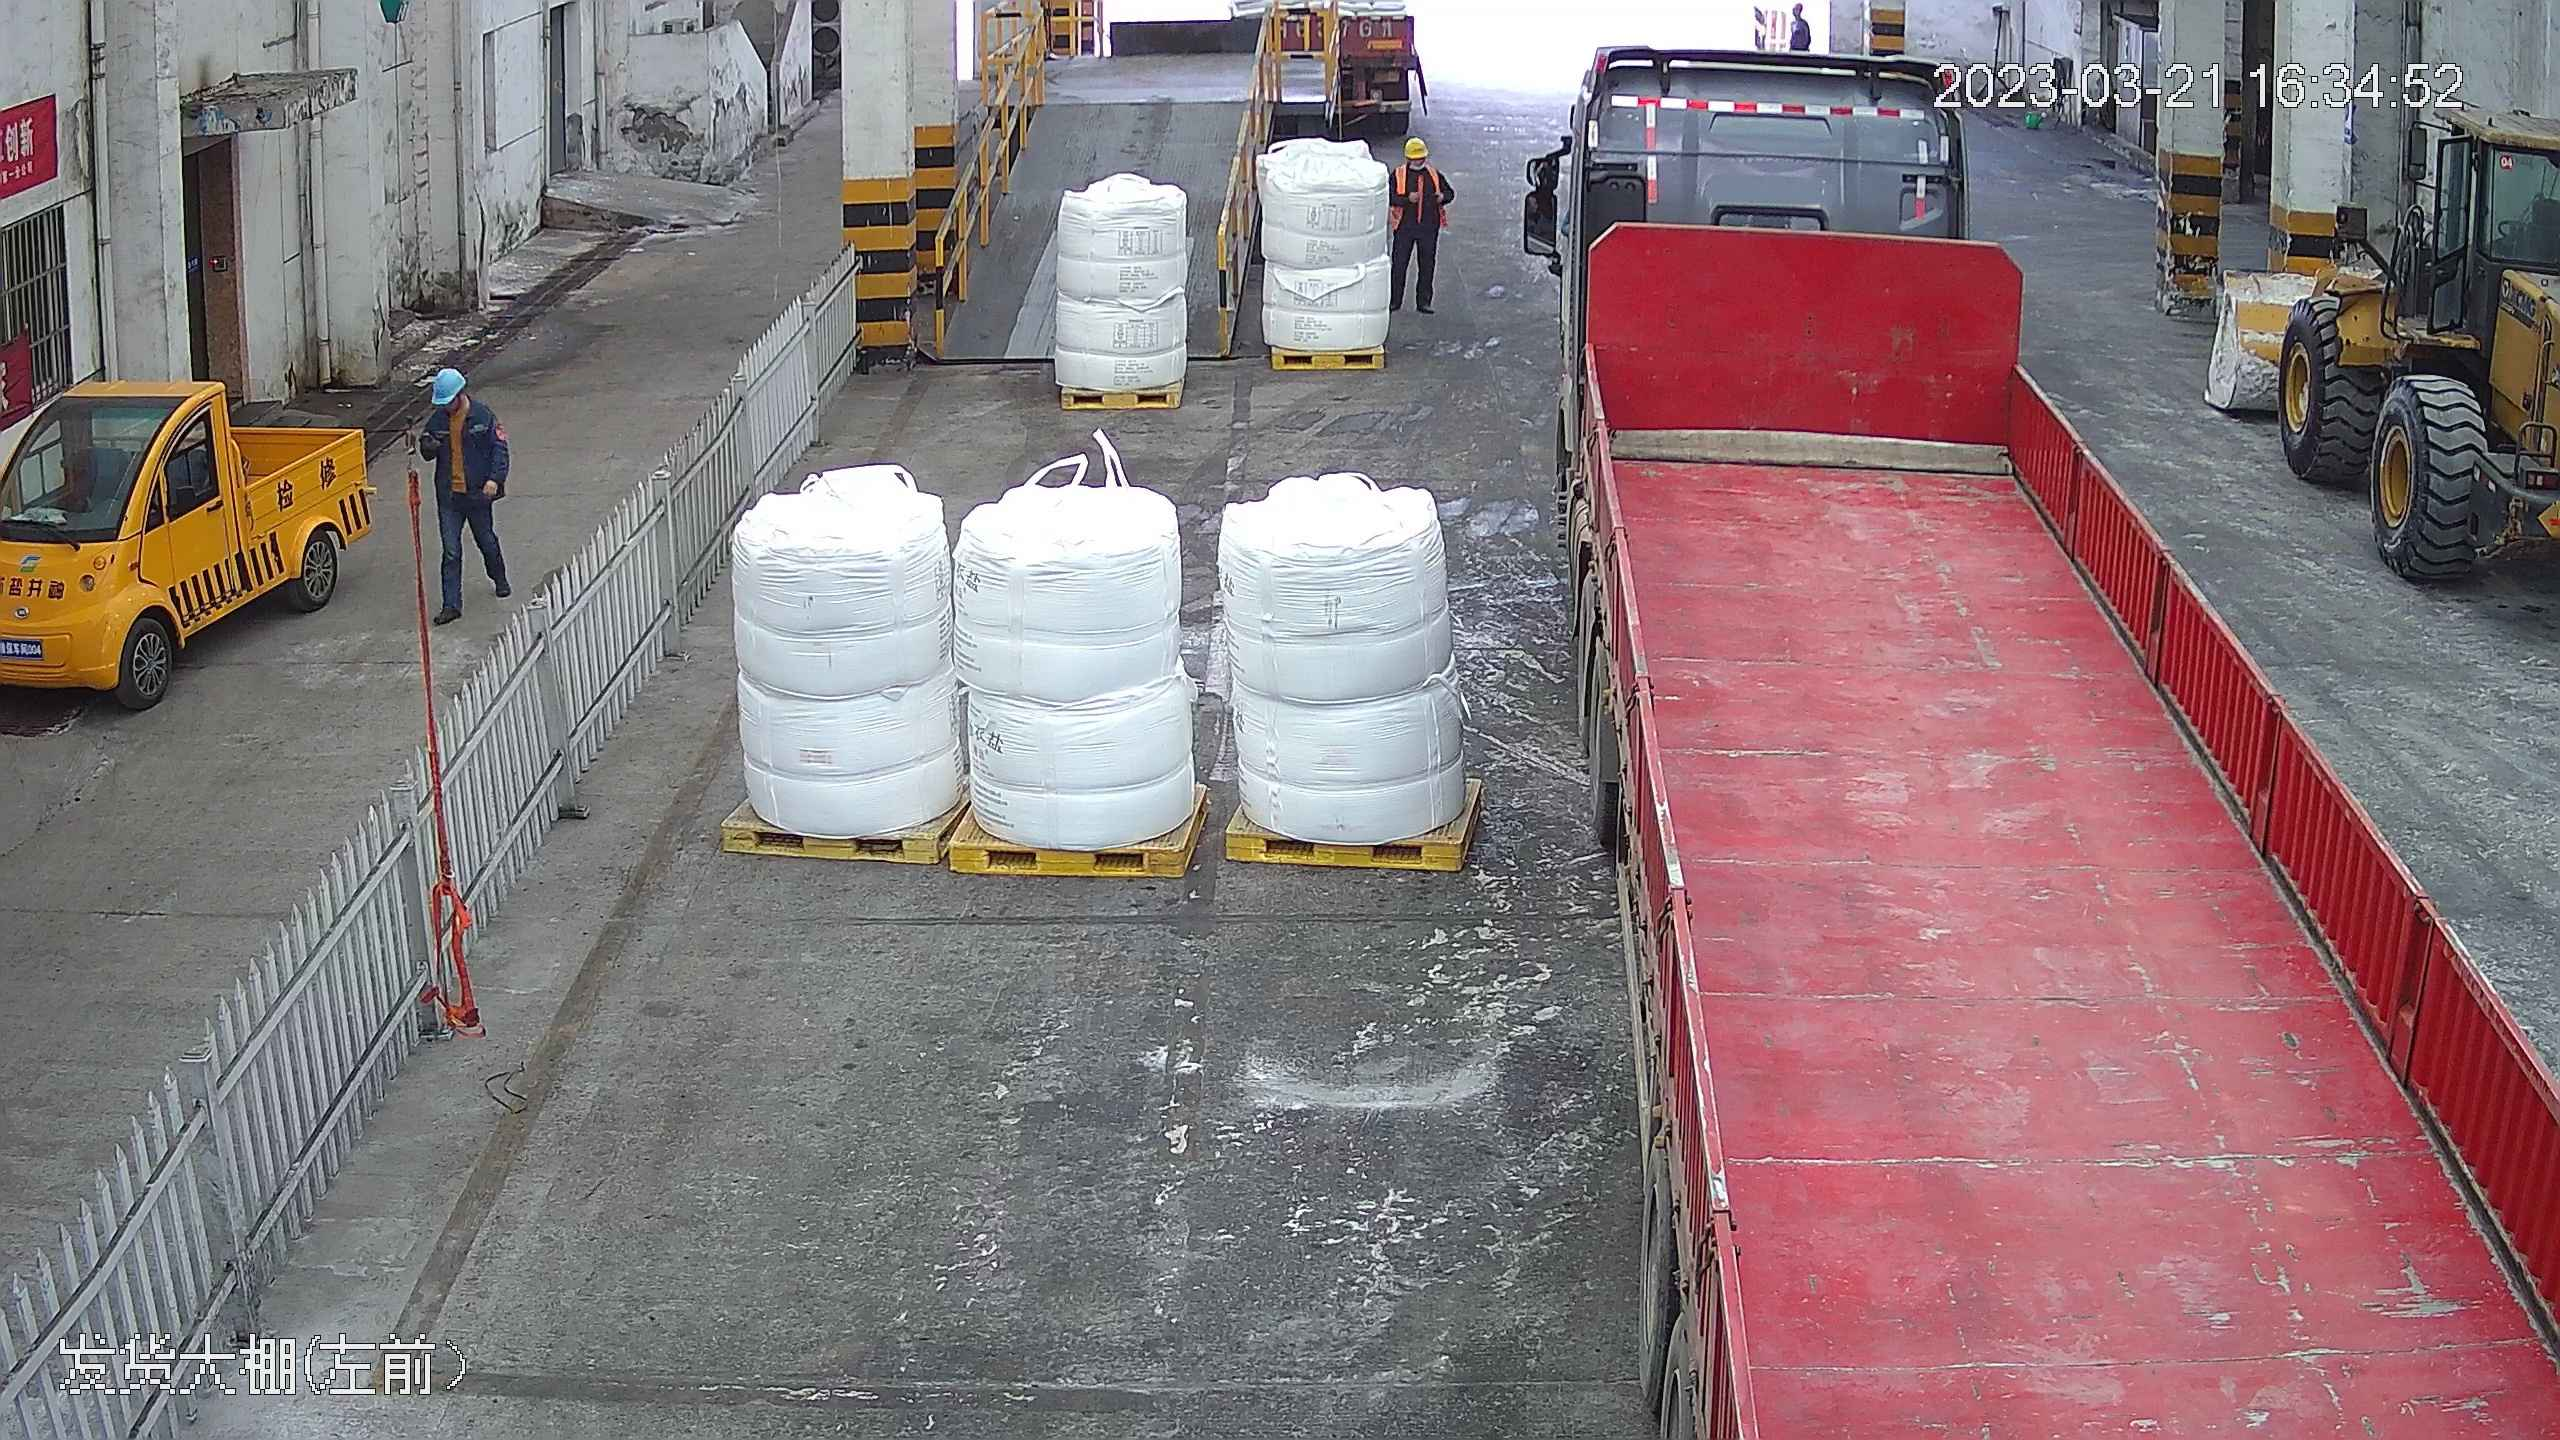head: (422, 360, 494, 442), (1391, 136, 1443, 194)
helmet: (431, 363, 469, 397), (1402, 137, 1428, 159)
people: (419, 360, 520, 621), (1384, 135, 1450, 315)
truck: (1535, 32, 2560, 1440)
